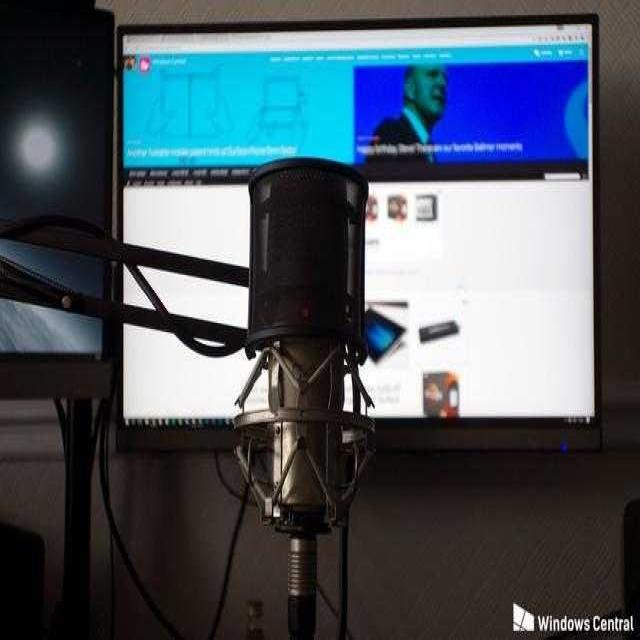microphone: (239, 156, 375, 545)
